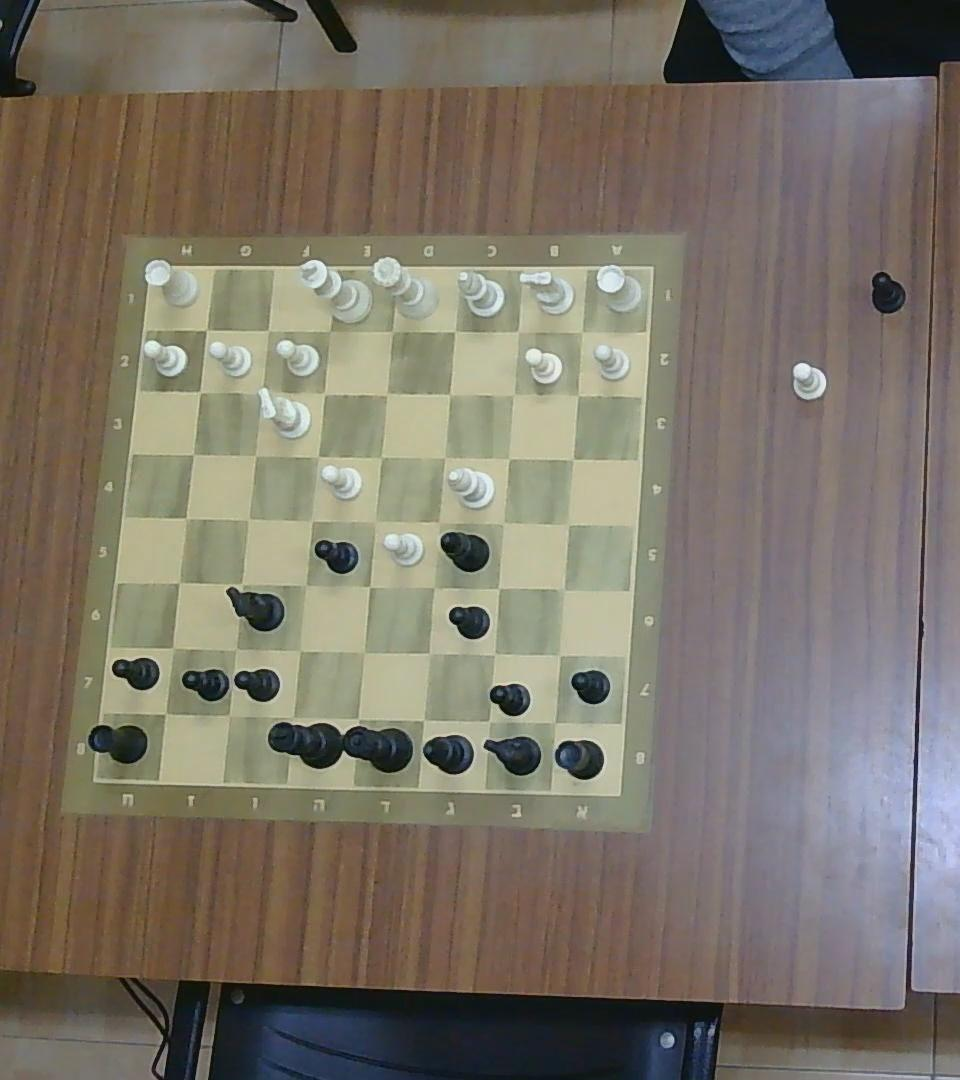xcorner: (345, 706, 371, 731), (475, 708, 500, 732), (216, 703, 241, 727), (154, 701, 178, 725), (279, 707, 304, 730), (412, 708, 435, 732), (379, 318, 402, 342), (288, 640, 311, 662), (230, 572, 252, 594), (175, 507, 197, 528), (162, 637, 184, 658), (544, 712, 567, 732), (182, 443, 202, 464), (360, 576, 380, 597), (354, 642, 374, 663), (420, 642, 440, 663), (246, 445, 266, 465), (169, 572, 189, 592), (225, 639, 245, 659), (423, 577, 443, 597), (364, 511, 384, 531), (320, 320, 339, 341), (499, 447, 518, 467), (238, 509, 257, 529), (370, 447, 389, 467), (376, 383, 395, 403), (445, 320, 464, 340), (296, 575, 315, 595), (440, 383, 459, 403), (483, 645, 503, 664), (302, 509, 320, 530), (508, 321, 527, 340), (494, 513, 513, 532), (429, 513, 448, 532), (308, 445, 326, 465), (559, 515, 578, 533), (564, 449, 582, 468), (196, 319, 214, 338), (573, 321, 591, 340), (504, 385, 522, 404), (568, 385, 586, 404), (259, 321, 277, 340), (489, 579, 507, 598), (555, 579, 573, 598), (435, 448, 453, 466), (315, 384, 333, 402), (253, 382, 271, 400), (190, 382, 207, 400), (550, 646, 568, 663)
